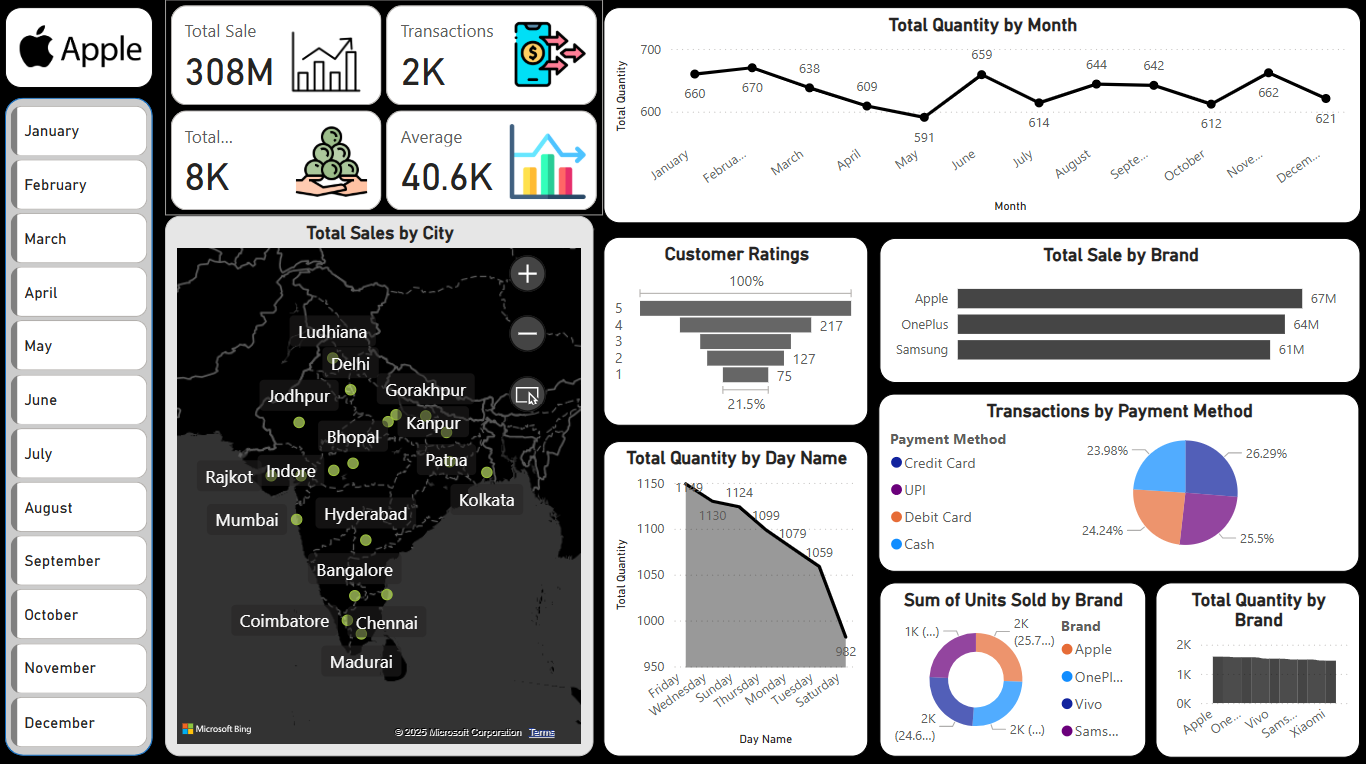

The dashboard page shown, as its layout file describes it:
{"tool":"powerbi","page":{"name":"Page 1","canvas":[1280,720],"ordinal":0},"visuals":[{"type":"shape","box":[9.7,11.1,137.4,74.9],"z":0},{"type":"image","box":[17.6,16.4,123.3,63.4],"z":1000},{"type":"shape","box":[9.7,95.8,137.4,612],"z":2000},{"type":"advancedSlicerVisual","fields":{"Values":["Sheet1.Date.Variation.Date Hierarchy.Month"]},"box":[9.7,97.1,137.4,612],"z":3000},{"type":"cardVisual","fields":{"Data":["SALESDATA.sales_sum","SALESDATA.Transactions","SALESDATA.Total Quantity","SALESDATA.Average"]},"box":[158.1,4.1,407.7,201.3],"z":4000},{"type":"map","title":"Total Sales by City","fields":{"Category":["SALESDATA.City"]},"box":[158.2,205.4,398.3,502.4],"z":5000},{"type":"lineChart","fields":{"Category":["SALESDATA.Date.Variation.Date Hierarchy.Month","SALESDATA.Date.Variation.Date Hierarchy.Day"],"Y":["SALESDATA.Total Quantity"]},"box":[565.8,11.3,704.5,201.3],"z":6000},{"type":"clusteredBarChart","fields":{"Category":["SALESDATA.Brand"],"Y":["SALESDATA.Total Sale"]},"box":[822.2,226,447.8,134.8],"z":7000},{"type":"pieChart","fields":{"Category":["SALESDATA.Payment Method"],"Y":["SALESDATA.Transactions"]},"box":[821.8,371,447.3,165.5],"z":8000},{"type":"funnel","title":"Customer Ratings","fields":{"Category":["SALESDATA.Customer Ratings"],"Y":["CountNonNull(SALESDATA.Customer Ratings)"]},"box":[565.8,225.4,246.5,176.1],"z":9000},{"type":"areaChart","fields":{"Category":["SALESDATA.Day Name"],"Y":["SALESDATA.Total Quantity"]},"box":[565.8,414.4,246.5,293.5],"z":10000},{"type":"ribbonChart","fields":{"Category":["SALESDATA.Brand"],"Y":["SALESDATA.Total Quantity"]},"box":[1079.4,545.8,190.6,163.3],"z":11000},{"type":"donutChart","fields":{"Category":["SALESDATA.Brand"],"Y":["Sum(SALESDATA.Units Sold)"]},"box":[822.2,545.8,247.7,162],"z":12000}]}

Visuals, with their boxes in screenshot pixels (x1, y1, x2, y2), scaled from the page's 1280x720 canvas onto the 1366x764 screenshot:
shape: 10, 12, 157, 91
image: 19, 17, 150, 85
shape: 10, 102, 157, 751
advancedSlicerVisual - Sheet1.Date.Variation.Date Hierarchy.Month: 10, 103, 157, 752
cardVisual - SALESDATA.sales_sum x SALESDATA.Transactions: 169, 4, 604, 218
"Total Sales by City" map: 169, 218, 594, 751
lineChart - SALESDATA.Date.Variation.Date Hierarchy.Month x SALESDATA.Date.Variation.Date Hierarchy.Day: 604, 12, 1356, 226
clusteredBarChart - SALESDATA.Brand x SALESDATA.Total Sale: 877, 240, 1355, 383
pieChart - SALESDATA.Payment Method x SALESDATA.Transactions: 877, 394, 1354, 569
"Customer Ratings" funnel: 604, 239, 867, 426
areaChart - SALESDATA.Day Name x SALESDATA.Total Quantity: 604, 440, 867, 751
ribbonChart - SALESDATA.Brand x SALESDATA.Total Quantity: 1152, 579, 1355, 752
donutChart - SALESDATA.Brand x Sum(SALESDATA.Units Sold): 877, 579, 1142, 751
